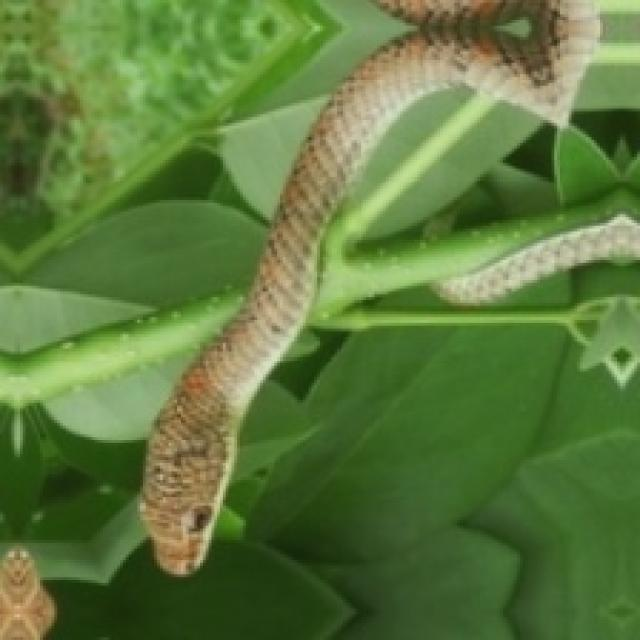paradise tree snake: (140, 0, 597, 574)
